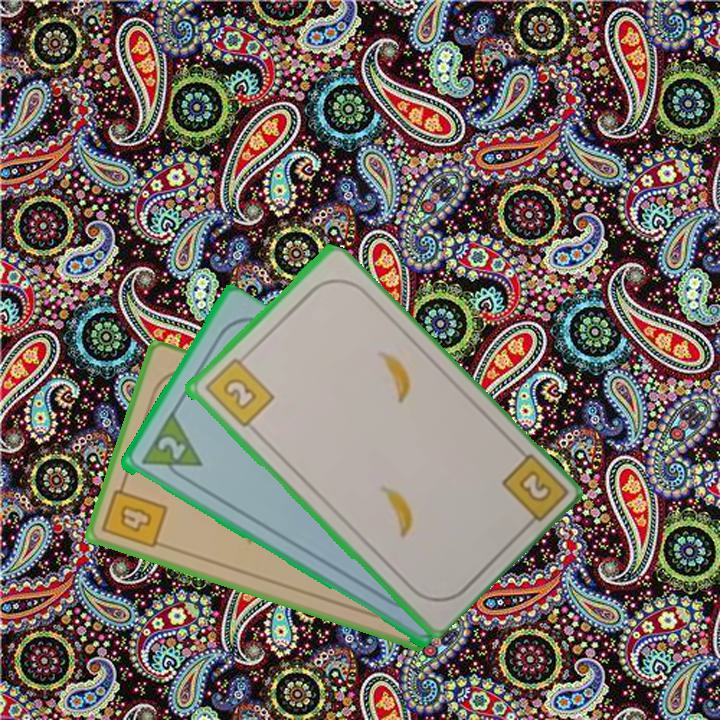2b: (200, 349, 276, 430), (497, 449, 567, 532)
2p: (153, 432, 188, 464)
4b: (98, 476, 170, 552)
